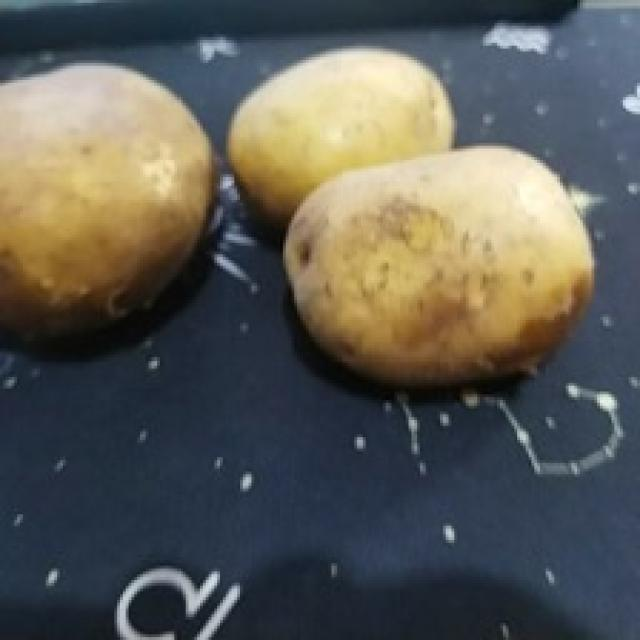Potato: (281, 145, 597, 395), (0, 63, 219, 349), (226, 48, 457, 243)
